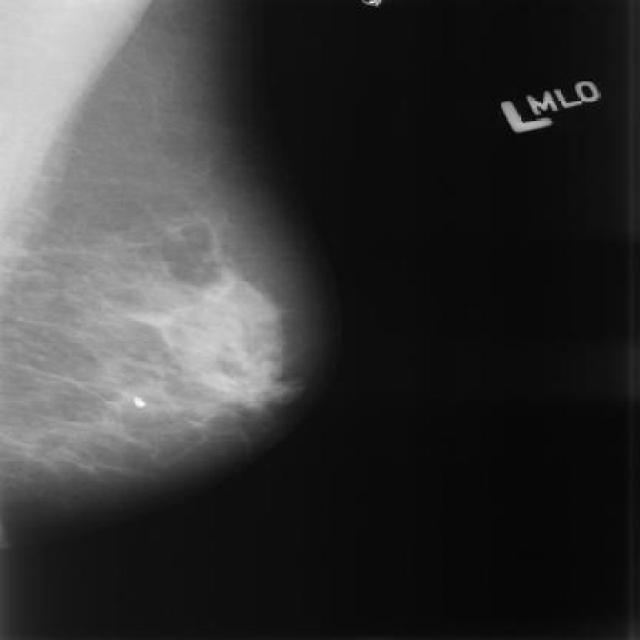tumor: (135, 274, 310, 394)
